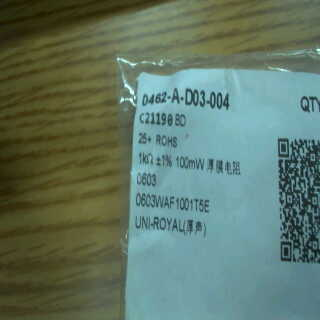1kR: (135, 149, 155, 170)
